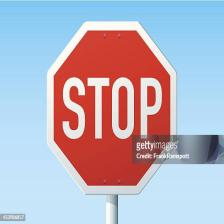Stop-sign: (44, 17, 182, 196)
